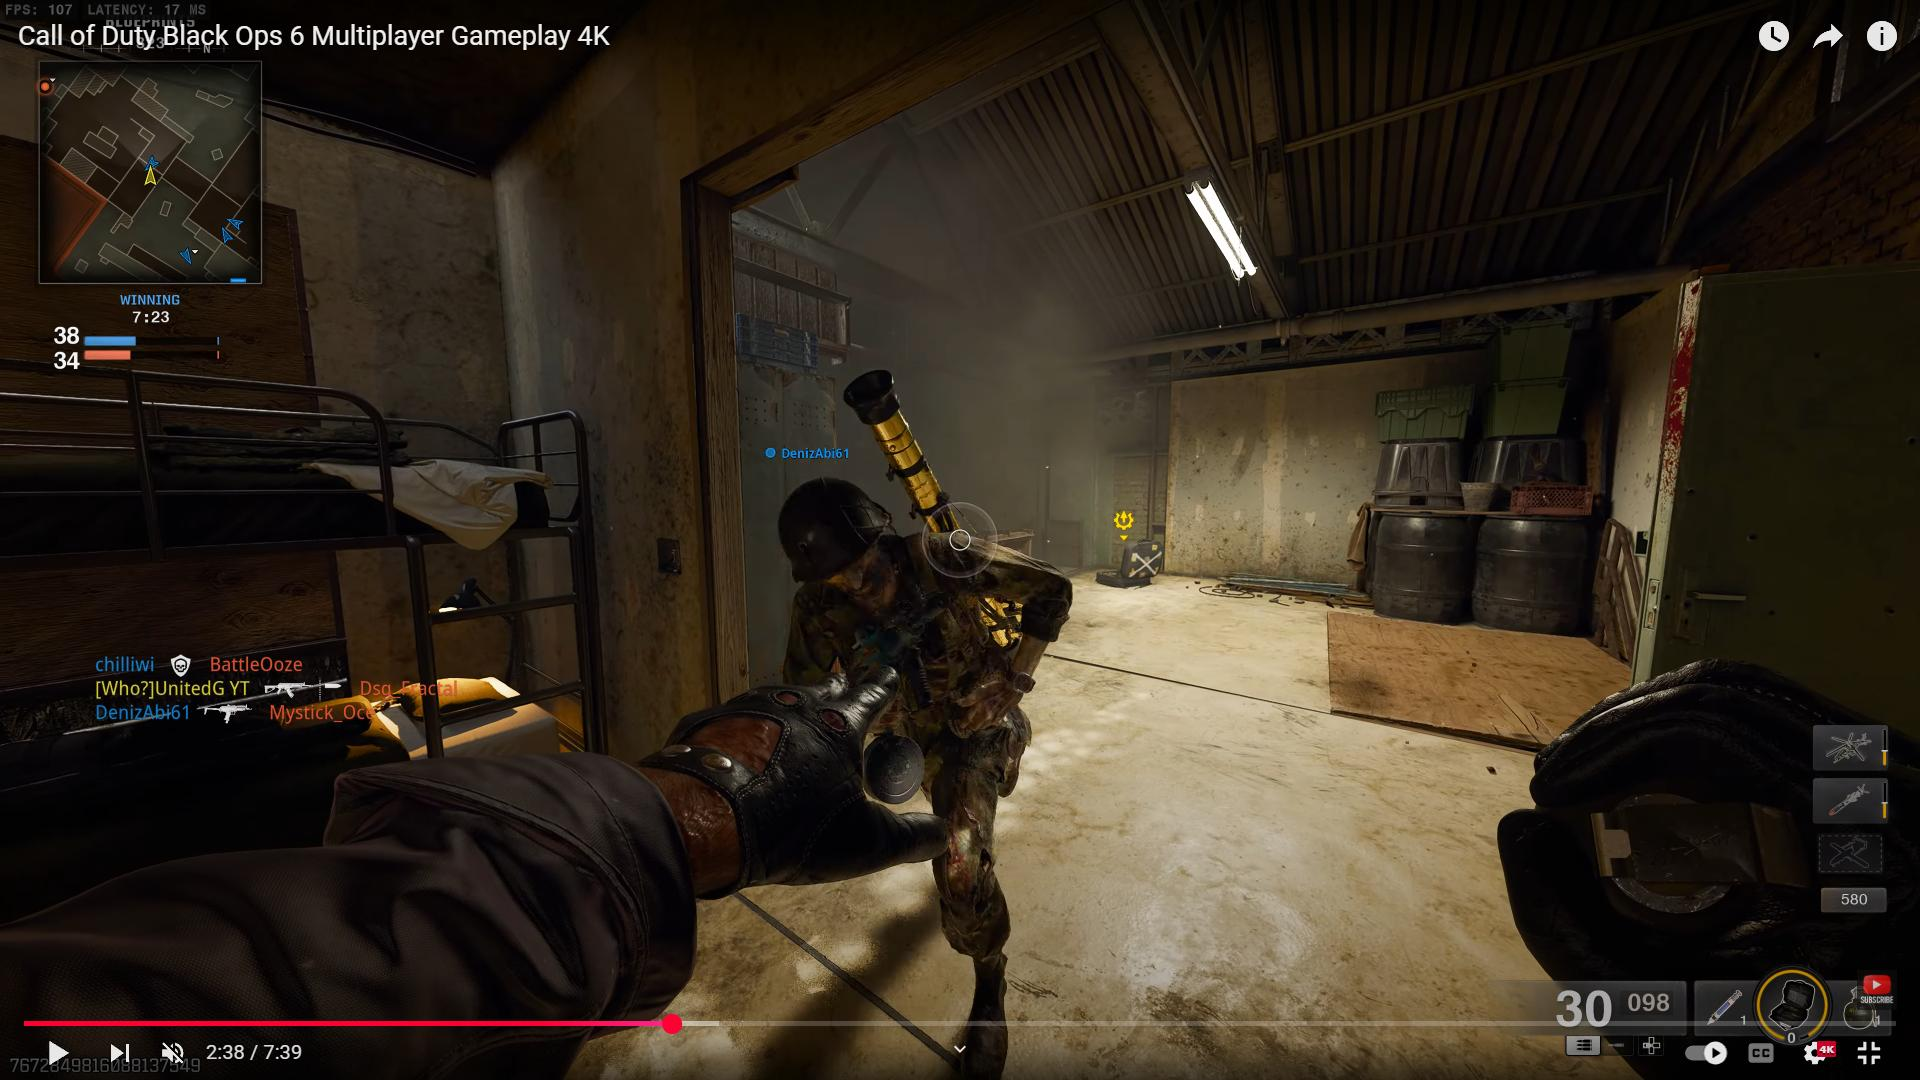Enemy: (758, 468, 1040, 696)
